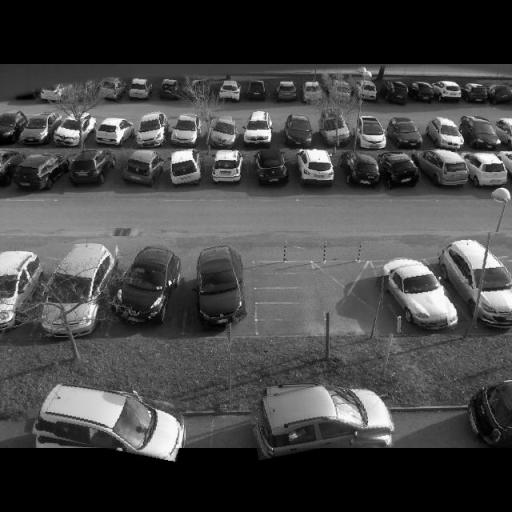busy: (26, 384, 185, 454), (250, 380, 392, 454), (441, 234, 512, 330), (105, 240, 183, 325), (376, 254, 459, 332), (182, 244, 247, 329), (41, 244, 114, 304), (465, 380, 512, 445), (6, 152, 66, 194), (0, 252, 38, 314), (62, 151, 114, 188), (115, 148, 163, 188), (160, 149, 206, 189), (336, 152, 384, 190), (295, 147, 339, 187), (420, 152, 470, 186), (380, 151, 422, 190), (465, 152, 509, 189), (128, 110, 170, 148), (250, 150, 292, 188), (423, 116, 465, 152), (460, 118, 502, 151), (238, 110, 276, 146), (279, 114, 316, 150), (207, 150, 246, 184), (385, 118, 425, 150), (203, 116, 240, 150), (90, 119, 132, 148), (16, 114, 56, 144), (51, 116, 88, 148), (168, 116, 204, 148), (353, 119, 389, 150), (318, 116, 352, 148), (0, 113, 26, 144), (378, 81, 409, 106), (94, 77, 124, 102), (324, 78, 353, 103), (123, 78, 154, 101), (154, 78, 184, 101), (0, 151, 18, 189), (187, 79, 215, 102), (271, 82, 300, 104), (212, 81, 241, 103), (352, 81, 380, 103), (406, 82, 434, 104), (487, 84, 512, 106), (462, 85, 490, 104), (300, 80, 324, 102), (435, 84, 464, 102), (496, 120, 512, 150), (243, 83, 269, 101), (36, 86, 66, 101)
